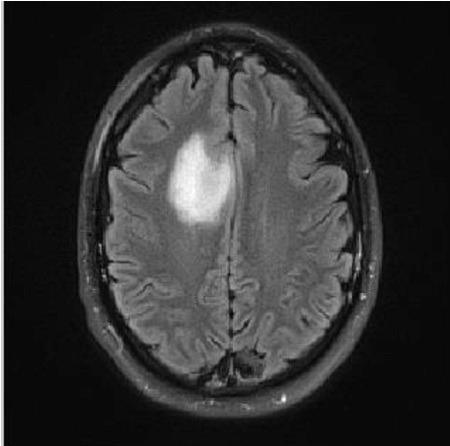Tumour-Meningioma: (151, 117, 258, 246)
